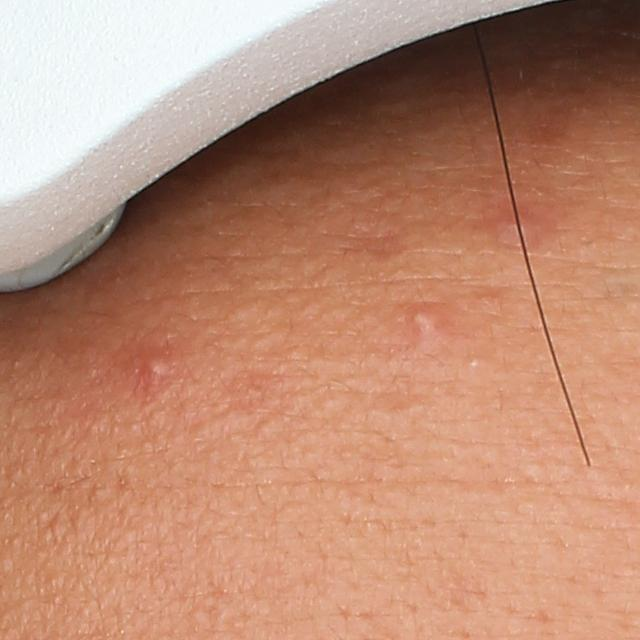papule: (491, 205, 544, 244)
